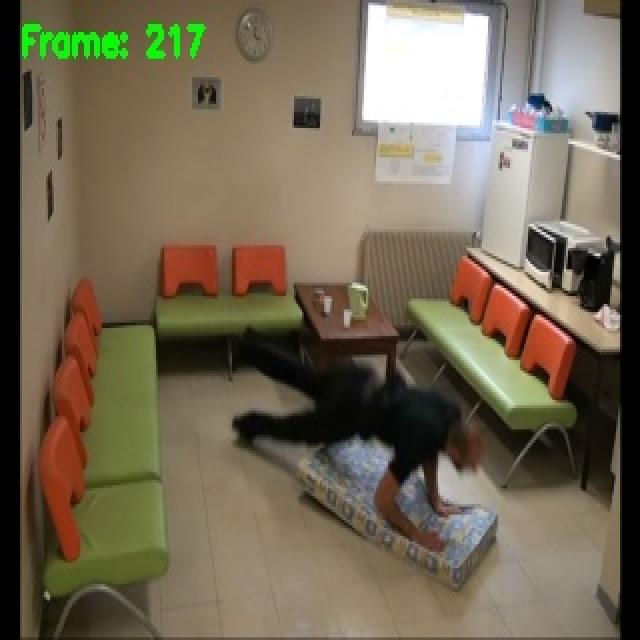Fall-Detected: (229, 322, 488, 557)
